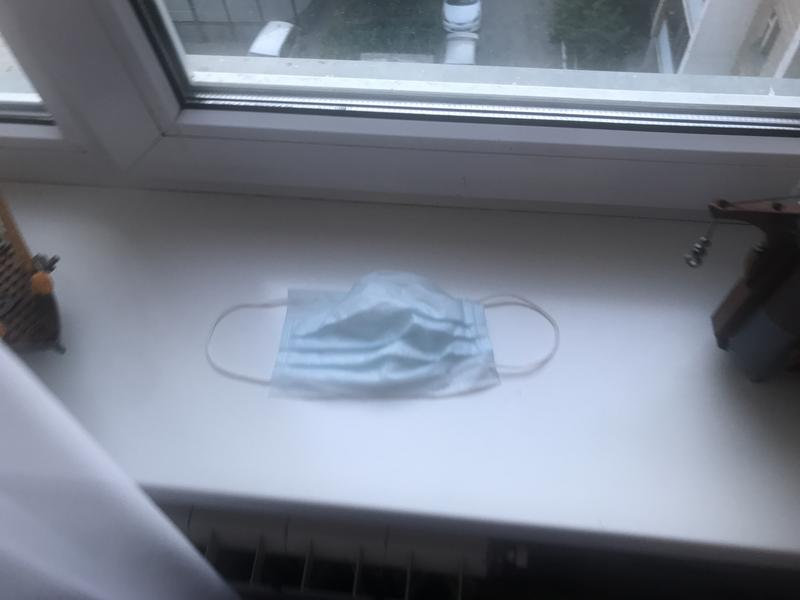medical_mask: (207, 268, 561, 390)
